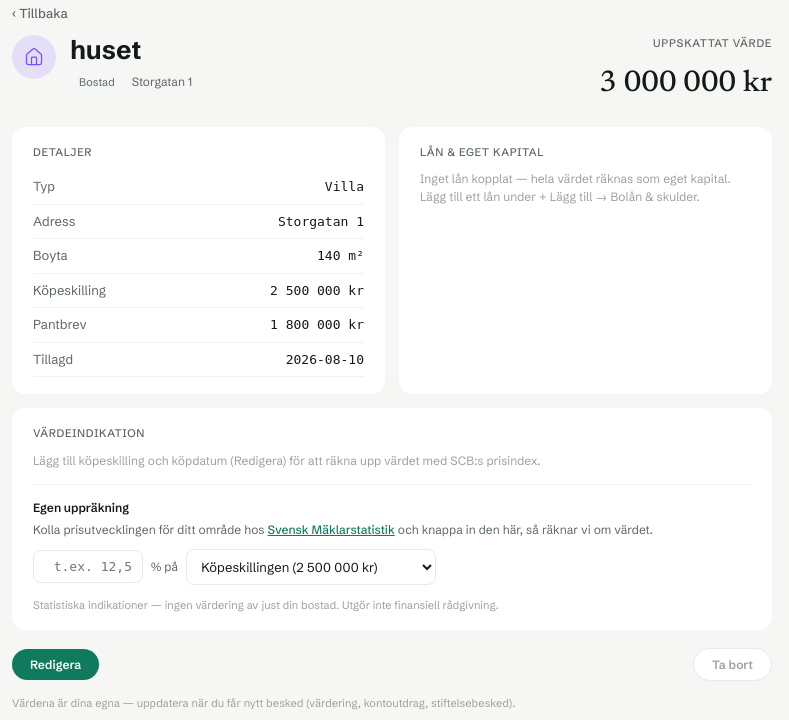
Test: ManualAssetView › Ägande-sektionen (familjeläge) › shows no ownership section without household members
What coordinates should you click on to do the following:
click the button "Redigera"
I would click on:
 (56, 664)
Its box is [12,649,99,680].
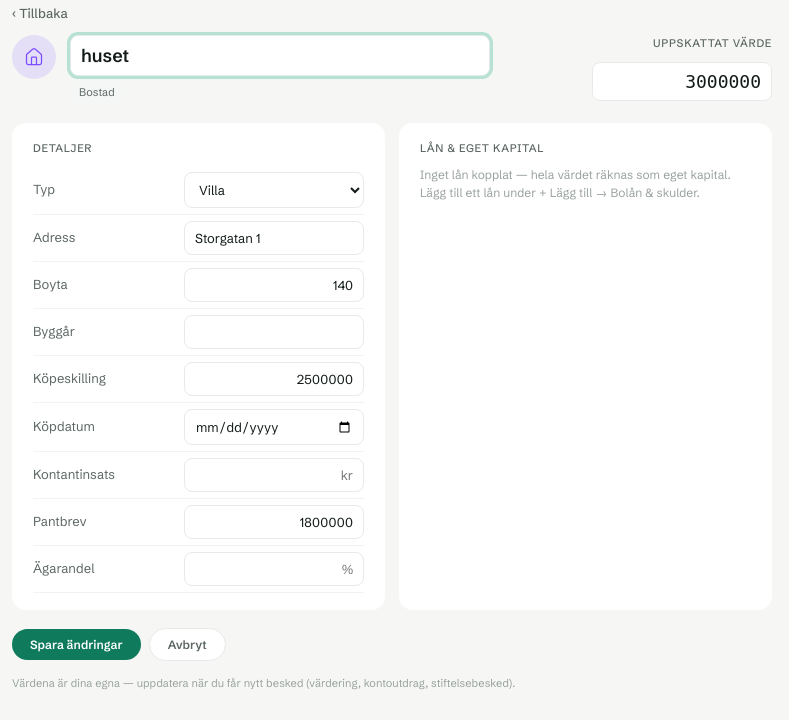
Expected: the field named "Ägarandel" is shown, [184,552,364,586]
